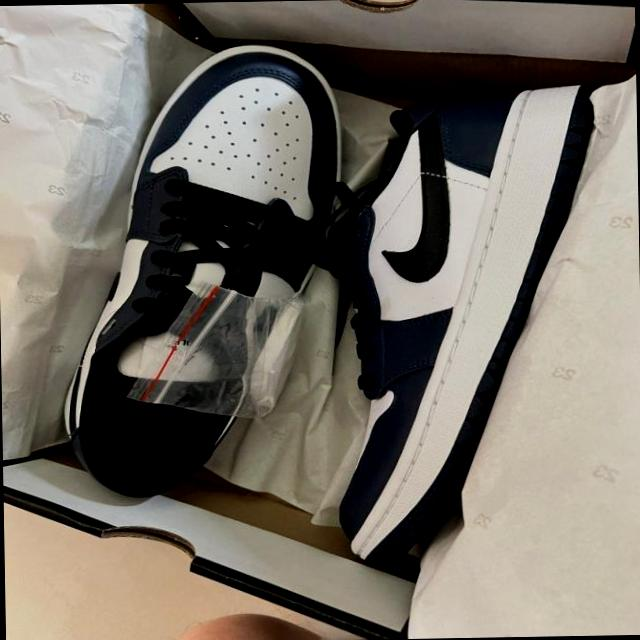nike_original_jordan: (288, 82, 622, 560), (46, 41, 364, 506)
